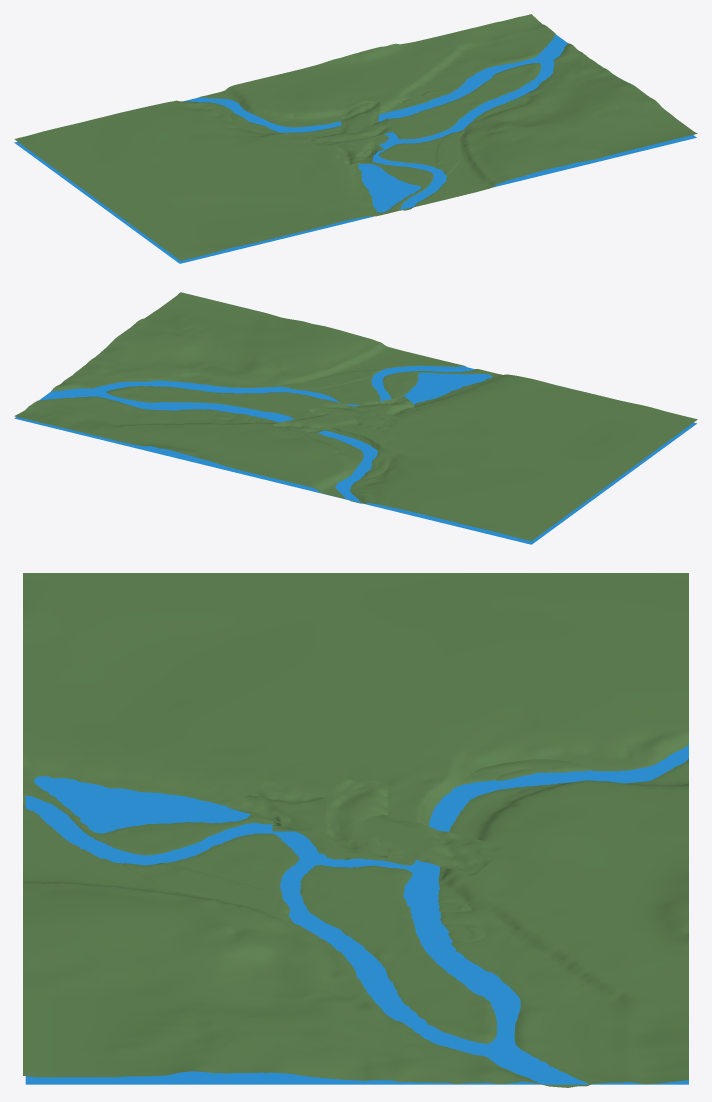
Rendered from terrain.fbx.
3 views of the same model, one above another, from view 1: azimuth 30°, elevation 25°; view 2: azimuth 150°, elevation 25°; view 3: azimuth 270°, elevation 25° (orthographic). The views are drawn at different scales.
Parts seen in each view (by area): view 1: terrain-#terrain#, river-#terrain#, river-join-#terrain#, islands-join-#terrain#, river-join.001; view 2: terrain-#terrain#, river-#terrain#, river-join-#terrain#, islands-join-#terrain#, river-join.001; view 3: terrain-#terrain#, river-#terrain#, river-join-#terrain#, islands-join-#terrain#, river-join.001, islands-join.001, inlets.001.
Part boxes in pixels (x1,y1,x2,y2): terrain-#terrain#: (14, 14, 697, 260); river-#terrain#: (14, 34, 696, 263); river-join-#terrain#: (336, 100, 380, 164); islands-join-#terrain#: (308, 118, 402, 148); river-join.001: (434, 129, 464, 175); terrain-#terrain#: (14, 292, 697, 541); river-#terrain#: (14, 365, 696, 544); river-join-#terrain#: (273, 396, 420, 436); islands-join-#terrain#: (308, 399, 403, 430); river-join.001: (280, 369, 381, 389); terrain-#terrain#: (23, 573, 688, 1087); river-#terrain#: (25, 744, 688, 1084); river-join-#terrain#: (227, 780, 511, 875); islands-join-#terrain#: (326, 779, 388, 858); river-join.001: (122, 863, 292, 921); islands-join.001: (461, 759, 591, 784); inlets.001: (439, 901, 485, 941).
Size of the model in its own units: 54304 by 1070 by 30267.
